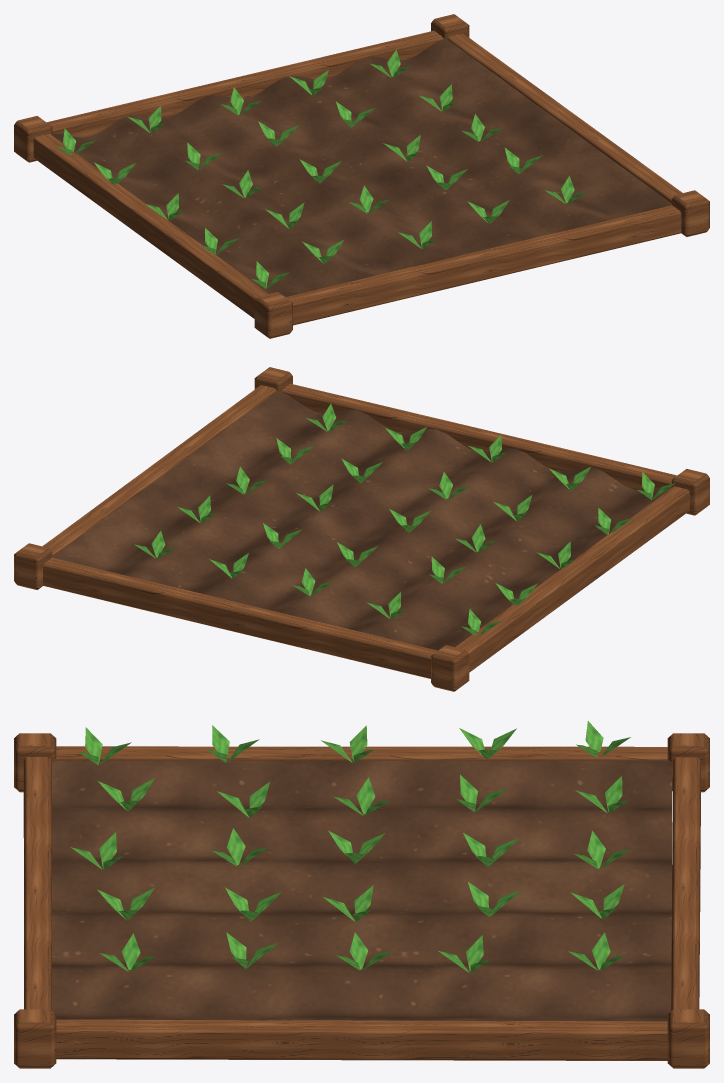
File: SM_Garden_Bed.fbx
3 renders of one model, top to bottom at view 1: azimuth 30°, elevation 25°; view 2: azimuth 150°, elevation 25°; view 3: azimuth 270°, elevation 25°, orthographic. The views are drawn at different scales.
Parts seen in each view (by area): view 1: GardenBed_Body; view 2: GardenBed_Body; view 3: GardenBed_Body.
Boxes of the visible parts, x1=… form: GardenBed_Body: x1=14, y1=14, x2=709, y2=338; GardenBed_Body: x1=14, y1=367, x2=709, y2=691; GardenBed_Body: x1=14, y1=721, x2=709, y2=1068.
Size of the model in its own units: 12.38 by 1.09 by 12.35.
